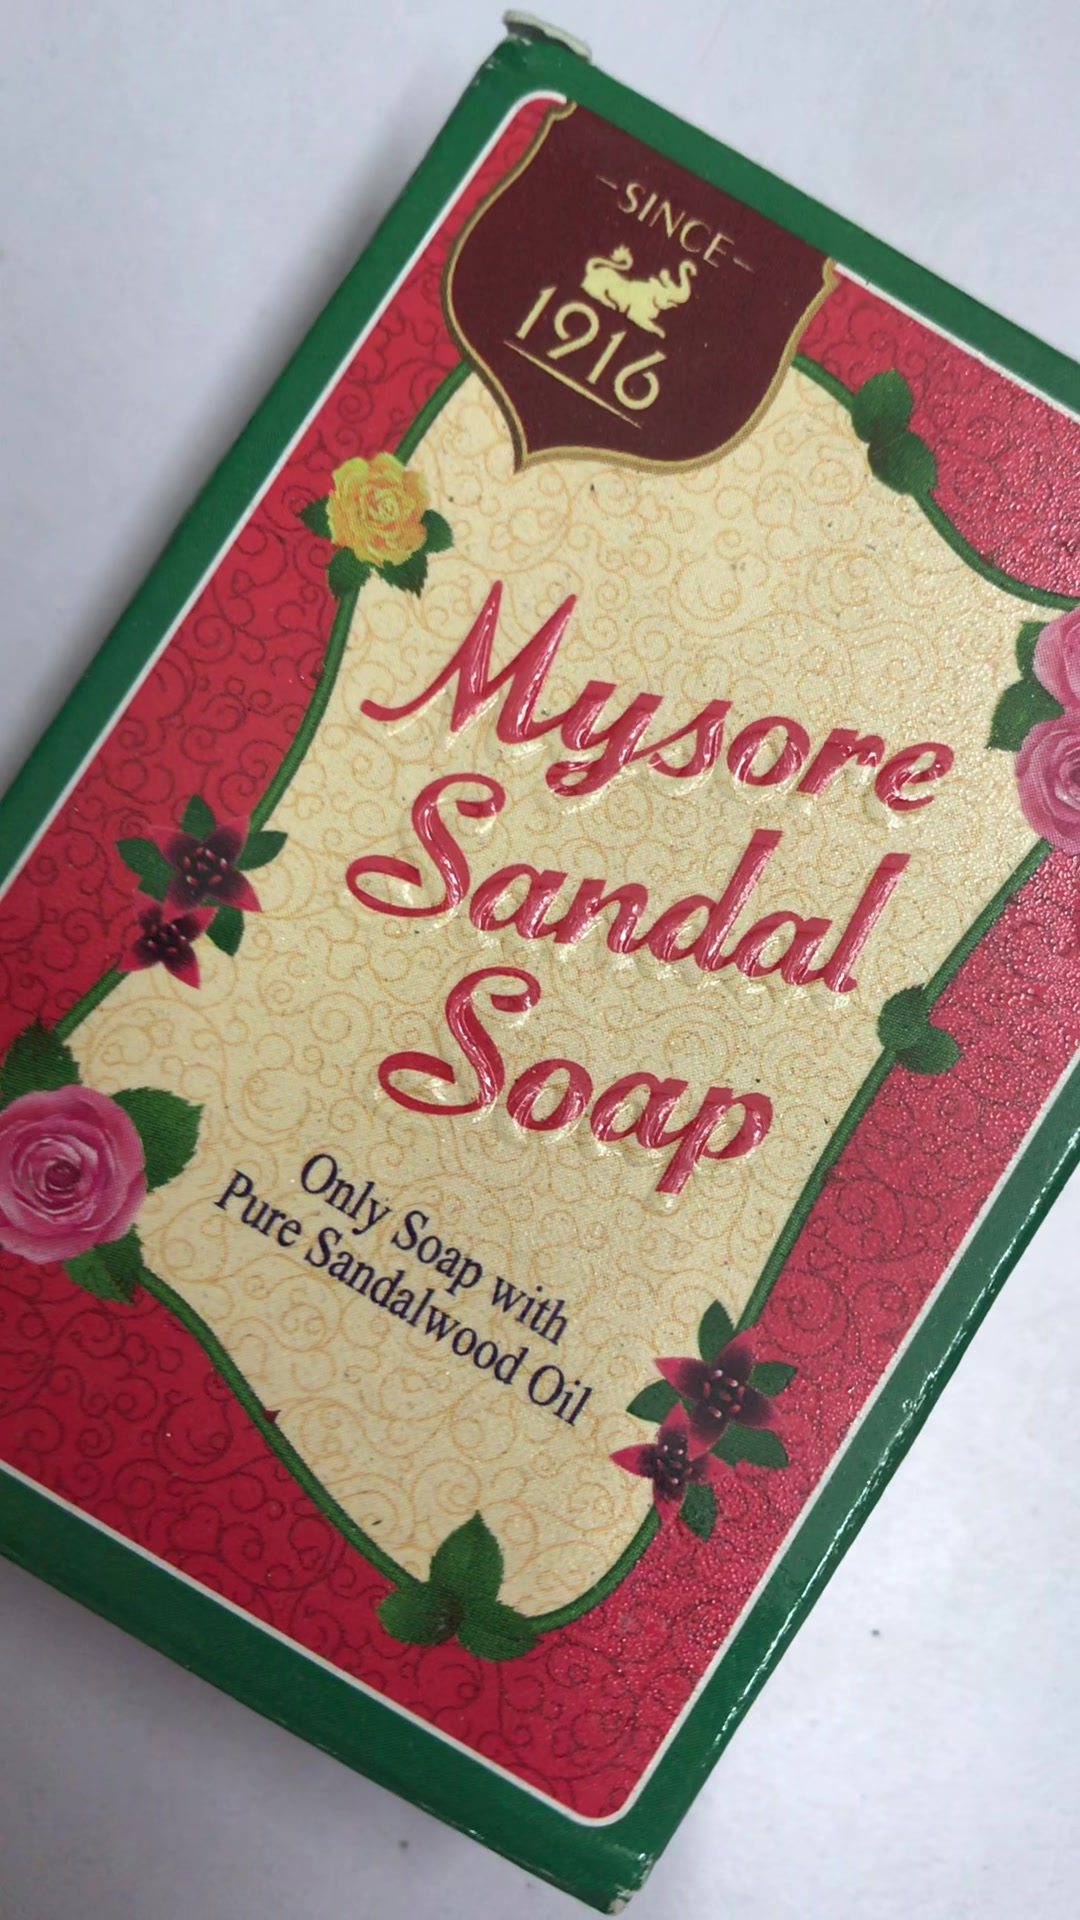mysore sandal soap: (1, 1, 1077, 1911)
